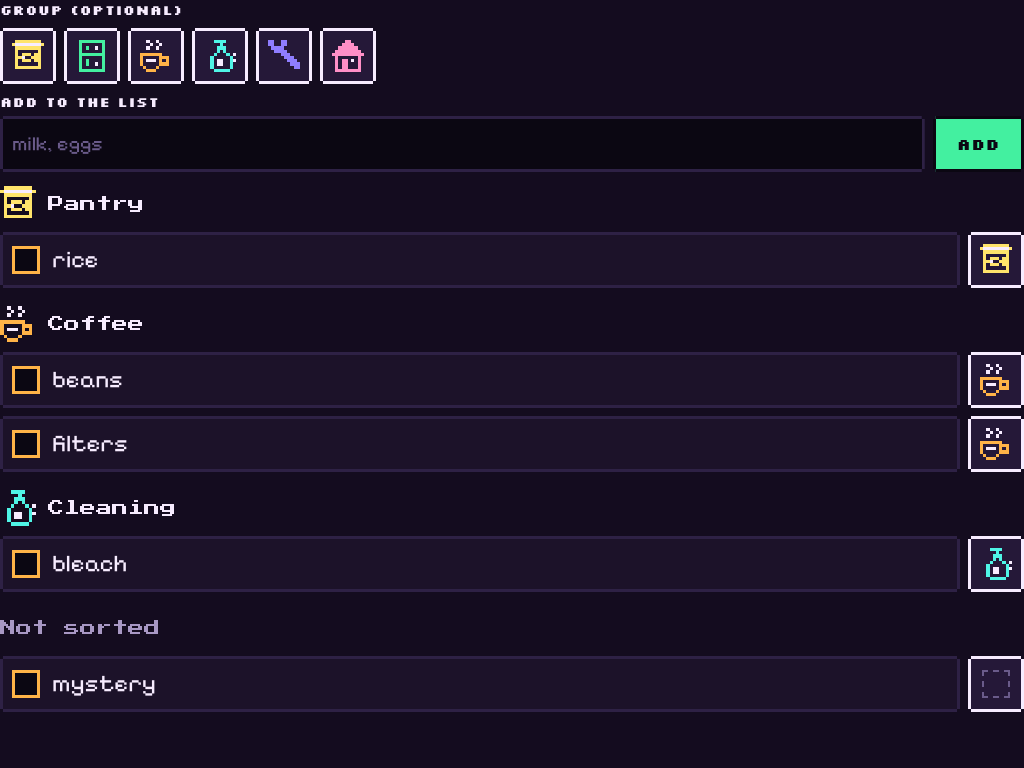
ShoppingList's group buttons (issue #208) › says so and closes when the item is gone by the time a group is tapped
Click the button with test id "shopping-group-button". click: (996, 260)
box: [968,232,1023,288]
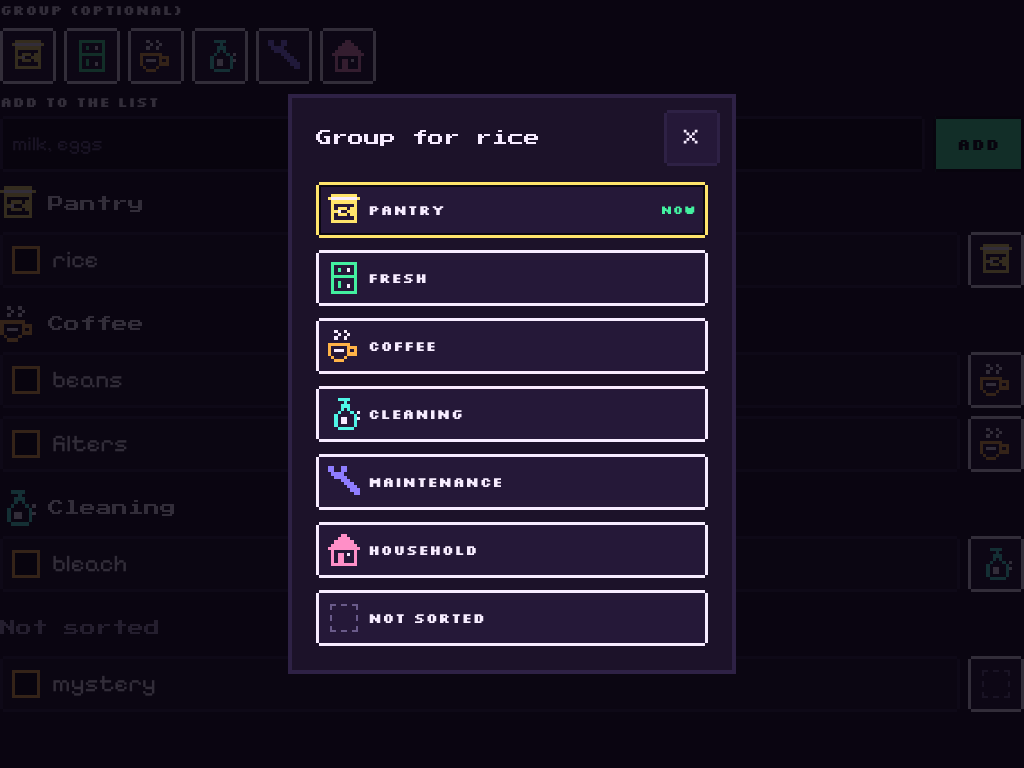
Click the button "Fresh". click: (344, 278)
box: [316,250,708,306]
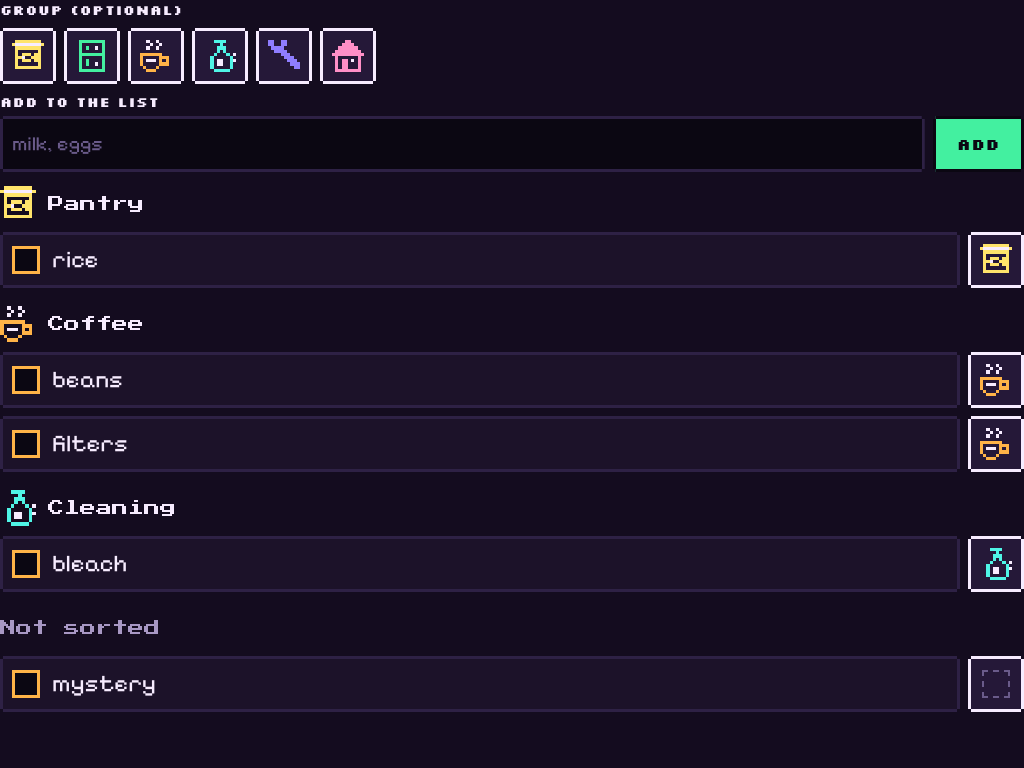
Result: the dialog is gone
